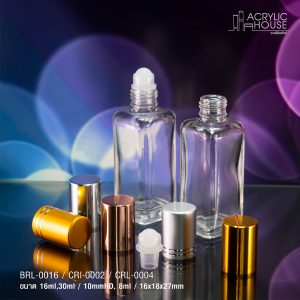glass_bottleww: (95, 49, 178, 259), (172, 63, 250, 271)
